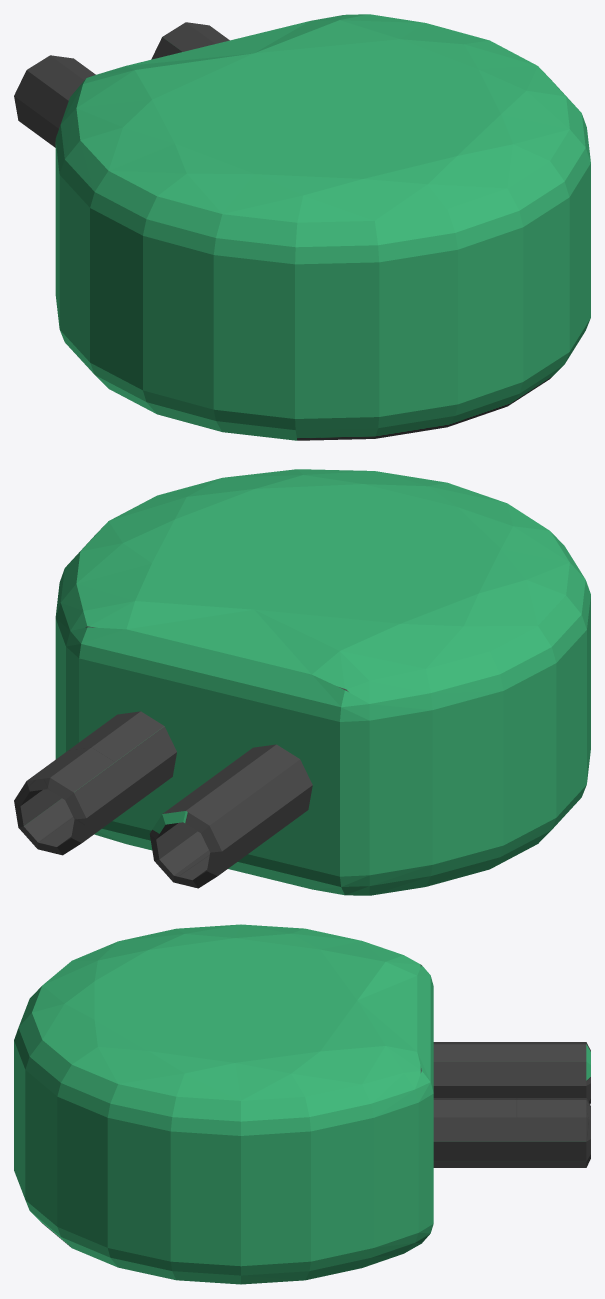
The model's file is shotgun.fbx.
3 views of the same model, one above another, from view 1: azimuth 30°, elevation 25°; view 2: azimuth 150°, elevation 25°; view 3: azimuth 270°, elevation 25° (orthographic). The views are drawn at different scales.
Visible parts, largest first — view 1: Cylinder.000; view 2: Cylinder.000; view 3: Cylinder.000.
Part boxes in pixels (x1=…): Cylinder.000: x1=14, y1=14, x2=590, y2=440; Cylinder.000: x1=14, y1=469, x2=590, y2=895; Cylinder.000: x1=14, y1=924, x2=590, y2=1284.
Bounding box in the file's own units: 19.02 × 9.63 × 24.21.
1 material, 1 textured.
